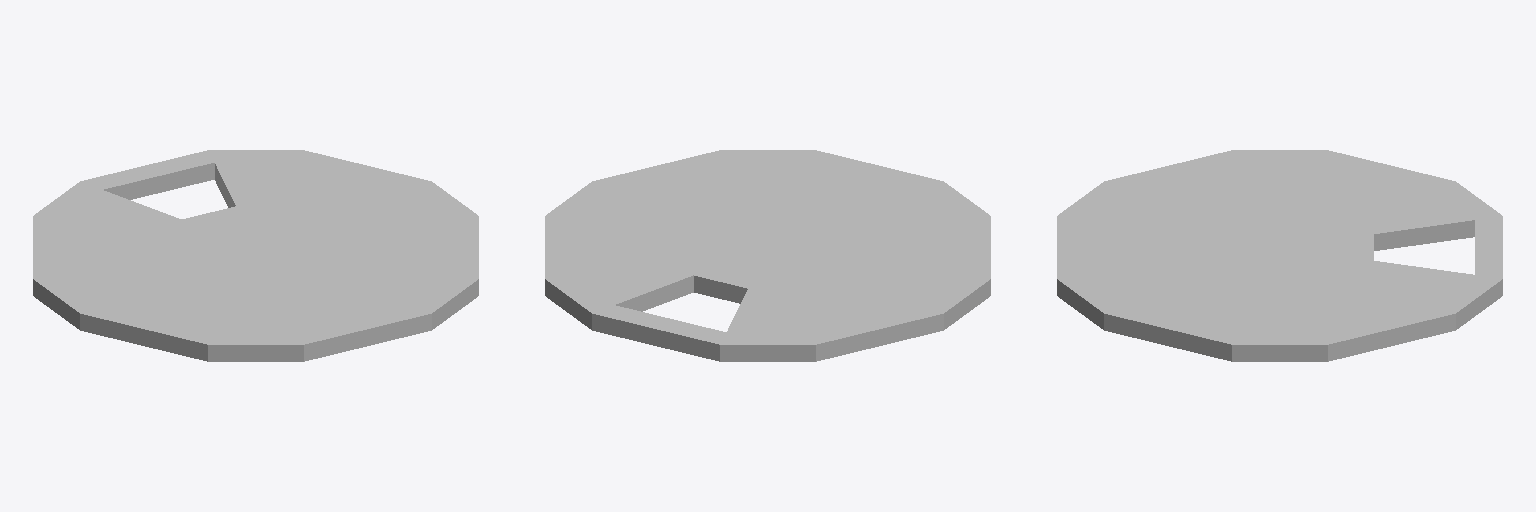
File: chip_4.obj
3 renders of one model, left to right at view 1: azimuth 30°, elevation 25°; view 2: azimuth 150°, elevation 25°; view 3: azimuth 270°, elevation 25°, orthographic.
Parts seen in each view (by area): view 1: chip.004; view 2: chip.004; view 3: chip.004.
Part boxes in pixels (left/top/right/bottom): chip.004: left=33, top=150, right=478, bottom=361; chip.004: left=545, top=150, right=990, bottom=361; chip.004: left=1057, top=150, right=1502, bottom=361.
Bounding box in the file's own units: 8.66 × 0.3528 × 8.39.